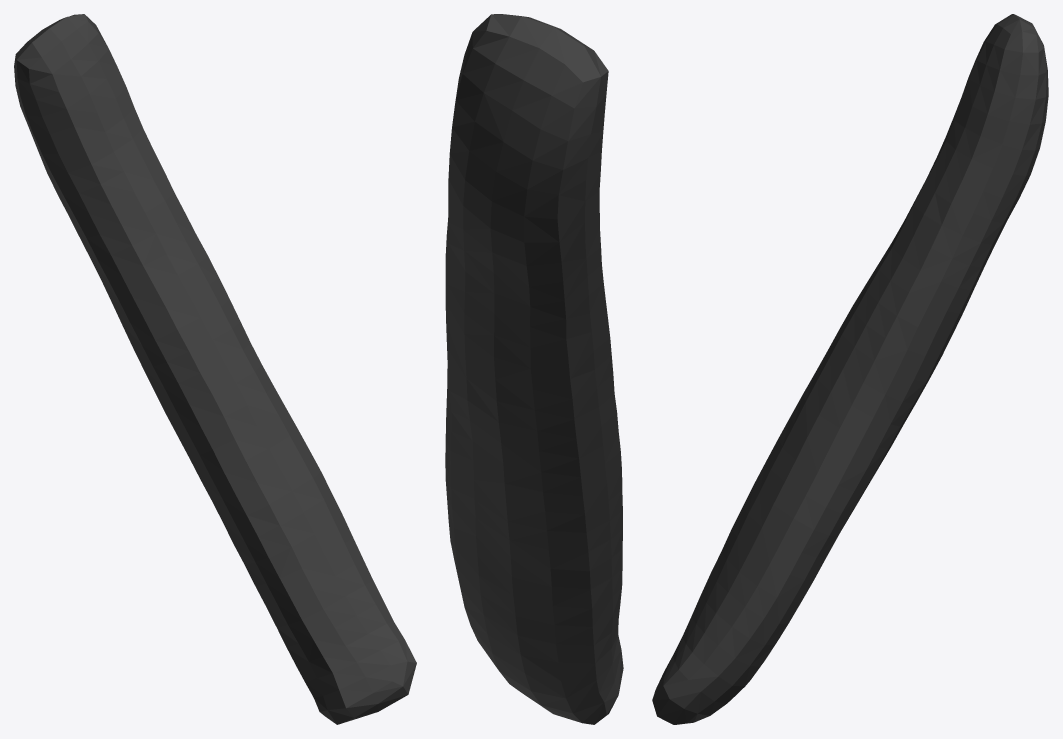
Rendered from Long_plantar_lig.glb.
3 renders of one model, left to right at view 1: azimuth 30°, elevation 25°; view 2: azimuth 150°, elevation 25°; view 3: azimuth 270°, elevation 25°, orthographic. The views are drawn at different scales.
Visible parts, largest first — view 1: Long_plantar_lig; view 2: Long_plantar_lig; view 3: Long_plantar_lig.
Part boxes in pixels (x1,y1,x2,y2): Long_plantar_lig: (14, 14, 416, 724); Long_plantar_lig: (445, 14, 623, 724); Long_plantar_lig: (652, 14, 1048, 724).
Bounding box in the file's own units: 7.34 × 18.46 × 10.43.
Materials: 1 (1 with a texture image).
